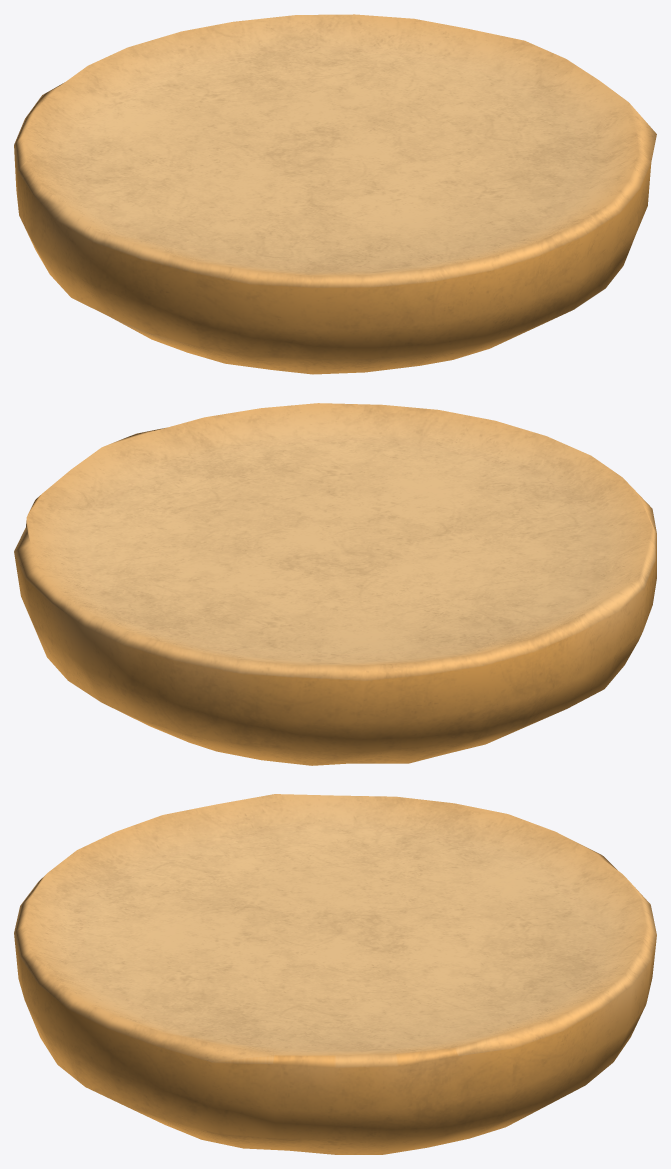
Rendered from BreadBottom.fbx.
The picture shows the model from 3 angles, top to bottom: view 1: azimuth 30°, elevation 25°; view 2: azimuth 150°, elevation 25°; view 3: azimuth 270°, elevation 25°; orthographic projection.
Visible parts, largest first — view 1: bread for burget bottom; view 2: bread for burget bottom; view 3: bread for burget bottom.
Boxes of the visible parts, x1=… form: bread for burget bottom: x1=14, y1=14, x2=656, y2=374; bread for burget bottom: x1=14, y1=403, x2=656, y2=765; bread for burget bottom: x1=14, y1=794, x2=656, y2=1154.
Size of the model in its own units: 21.77 by 5.47 by 21.9.
